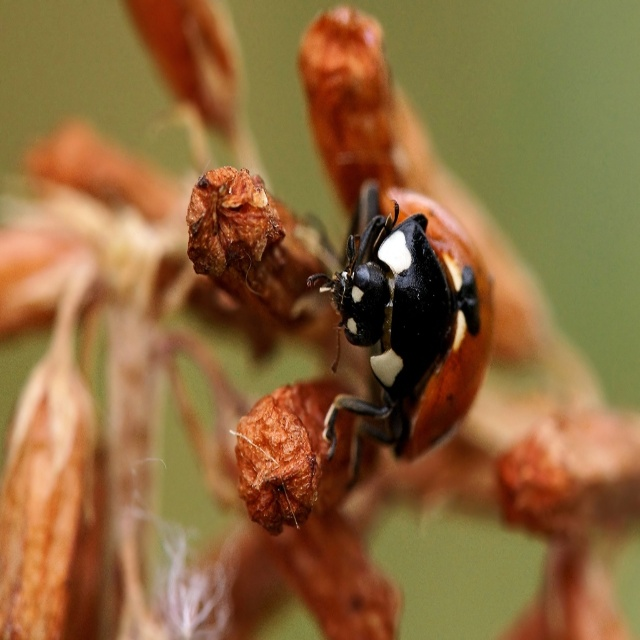Ladybug: (317, 179, 494, 488)
